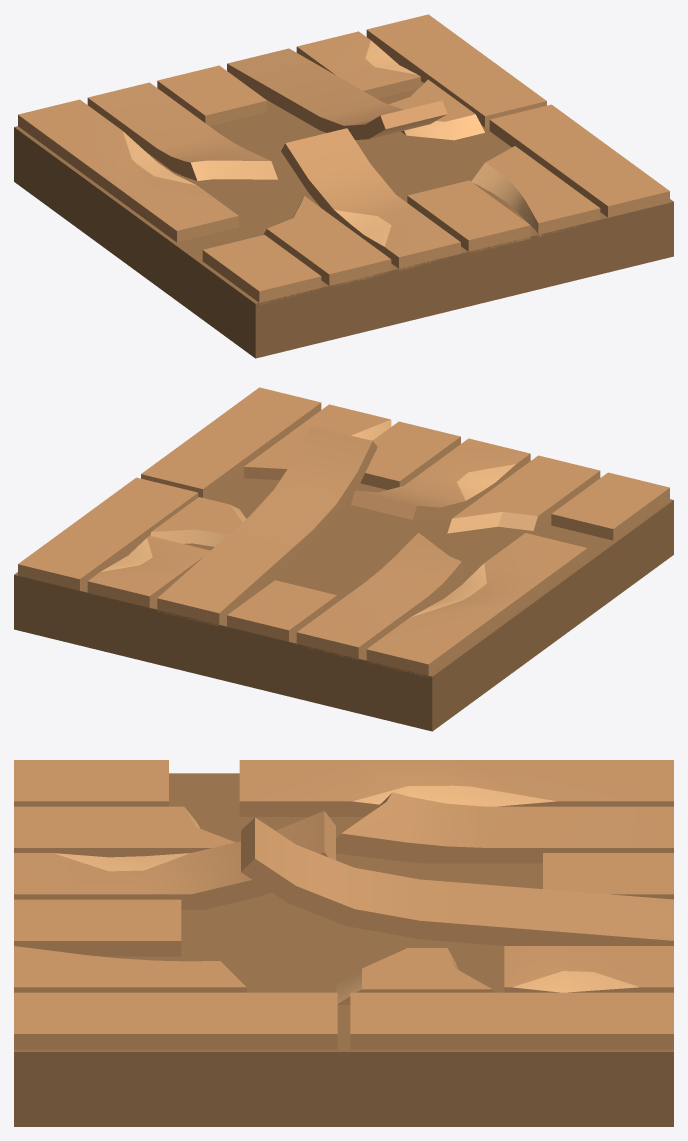
File: Floor Wood Broken.glb
The picture shows the model from 3 angles, top to bottom: view 1: azimuth 30°, elevation 25°; view 2: azimuth 150°, elevation 25°; view 3: azimuth 270°, elevation 25°; orthographic projection. The views are drawn at different scales.
Parts seen in each view (by area): view 1: Floor_Wood_Broken; view 2: Floor_Wood_Broken; view 3: Floor_Wood_Broken.
Part boxes in pixels (x1,y1,x2,y2): Floor_Wood_Broken: [14, 14, 673, 358]; Floor_Wood_Broken: [14, 387, 673, 731]; Floor_Wood_Broken: [14, 760, 673, 1126].
Size of the model in its own units: 4 by 1.16 by 4.
Materials: 1 (1 with a texture image).
